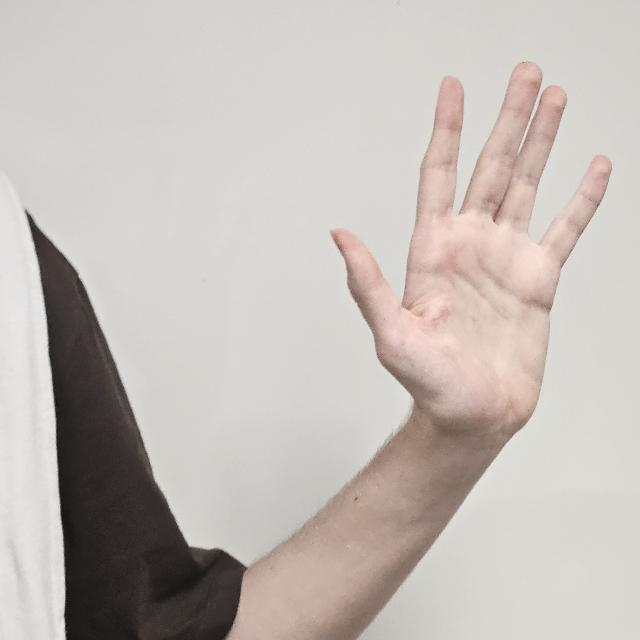X: (331, 58, 614, 460)
